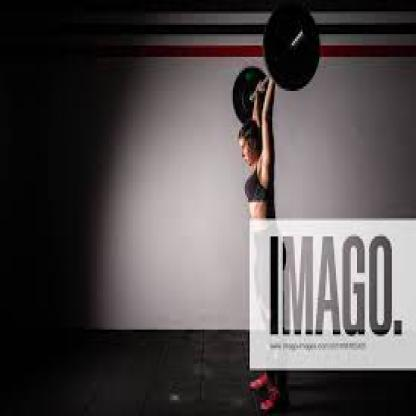Barbell: (299, 25, 312, 50)
